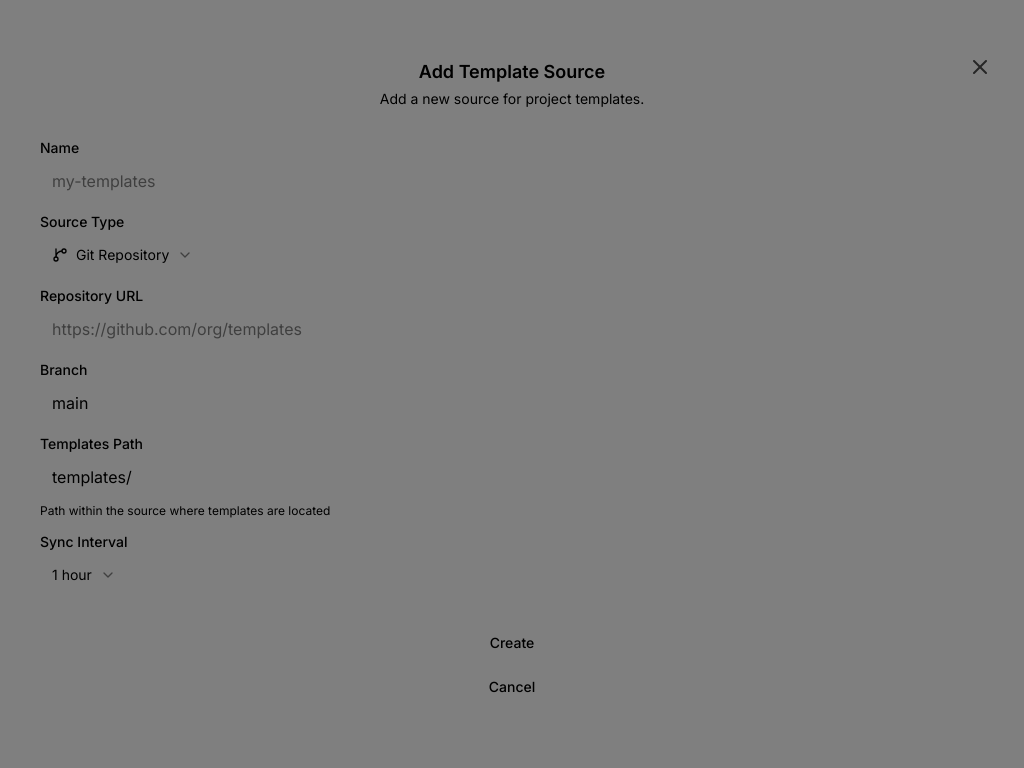
it: TemplateSourceDialog › validates required name field
Click the button "Create": (512,643) [40, 625, 984, 661]
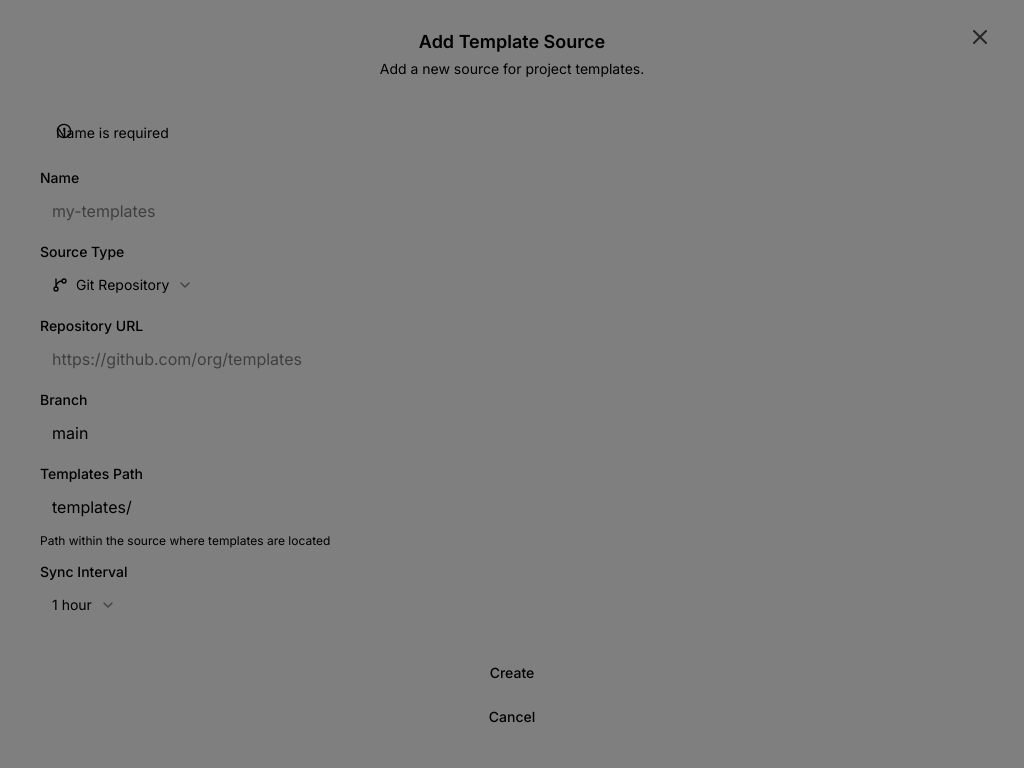
Expected: the text "Name is required" is shown, [56, 124, 169, 141]
